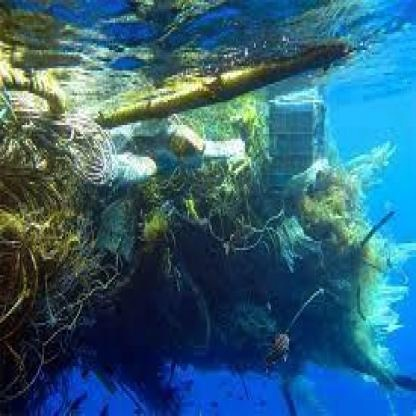net: (0, 101, 118, 416)
